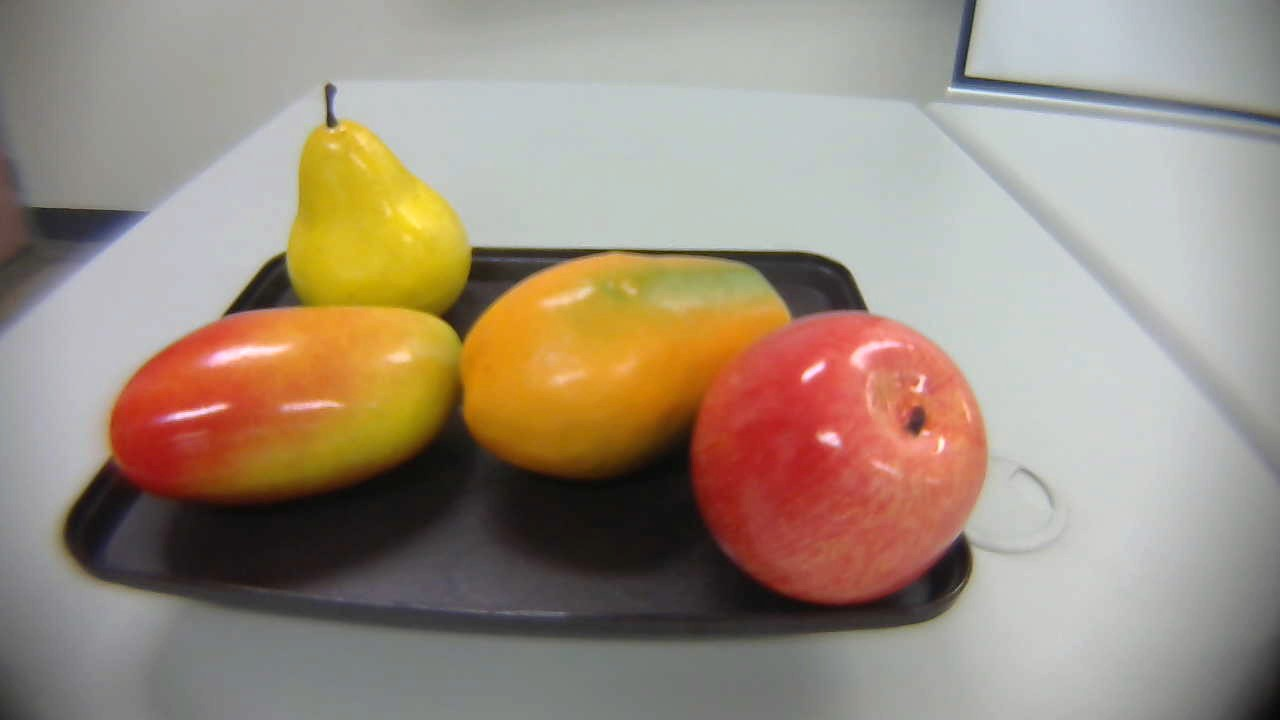papya: (455, 248, 798, 481)
red apple: (687, 311, 995, 603)
red mango: (92, 289, 477, 524)
yellow pear: (278, 84, 477, 324)
